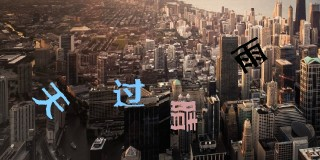天: (32, 81, 69, 120), (169, 99, 197, 132)
过: (113, 77, 146, 107)
雨: (230, 36, 268, 74)
